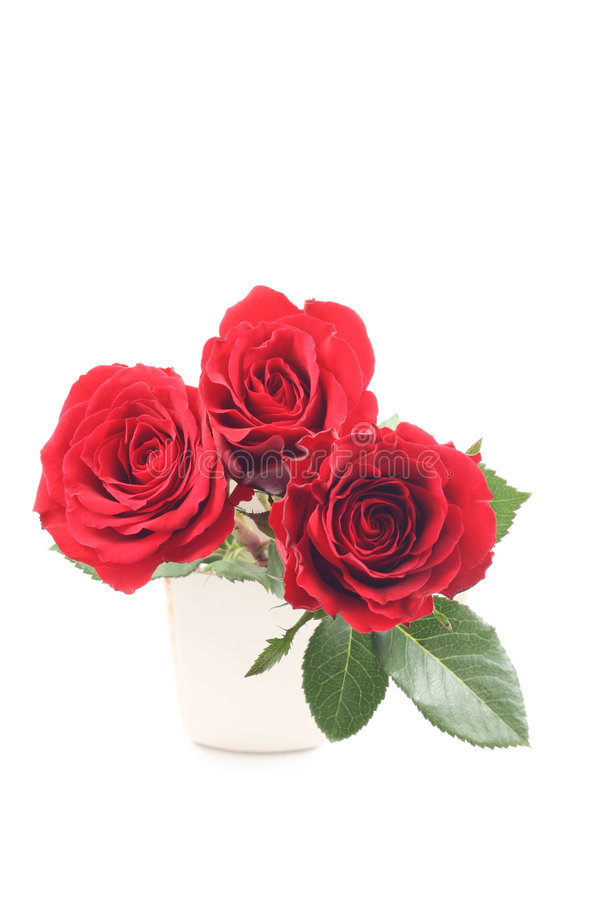RedRose: (37, 342, 267, 634), (280, 397, 512, 666), (192, 237, 429, 496)
